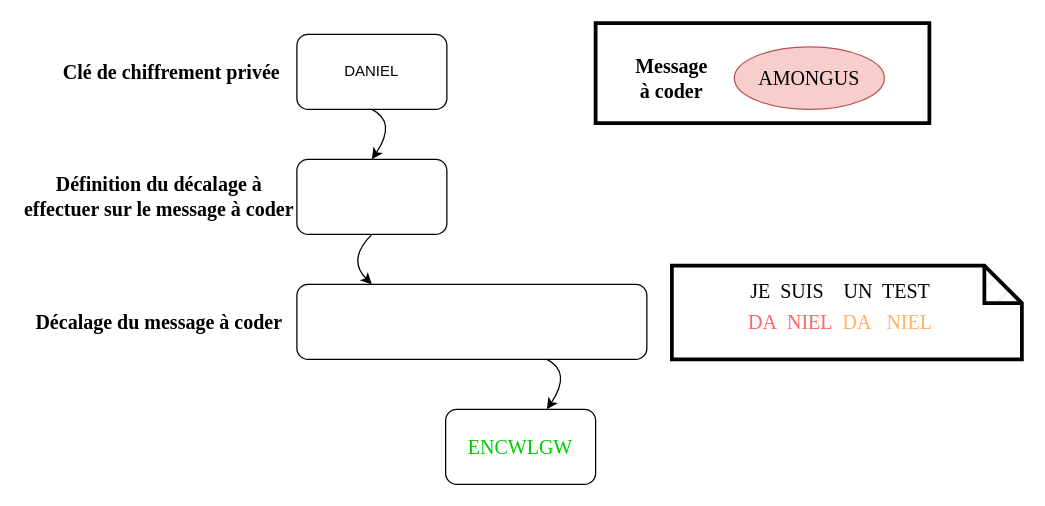
Some shapes in this 1045 by 506 pixel diagram are drawn without their labels. Each missing label, with the box of its shape:
A +4, M +1, O +14, N +9, G +5, U +12, S +4: (296, 283, 647, 359)
D A N I E L 4 1 14 9 5 12: (296, 158, 447, 234)
